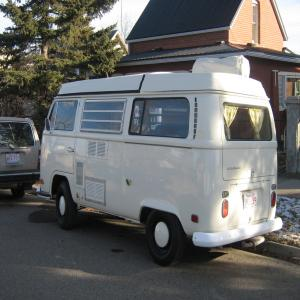Vehicle-registration-plate: (244, 194, 258, 211), (6, 154, 21, 164)
